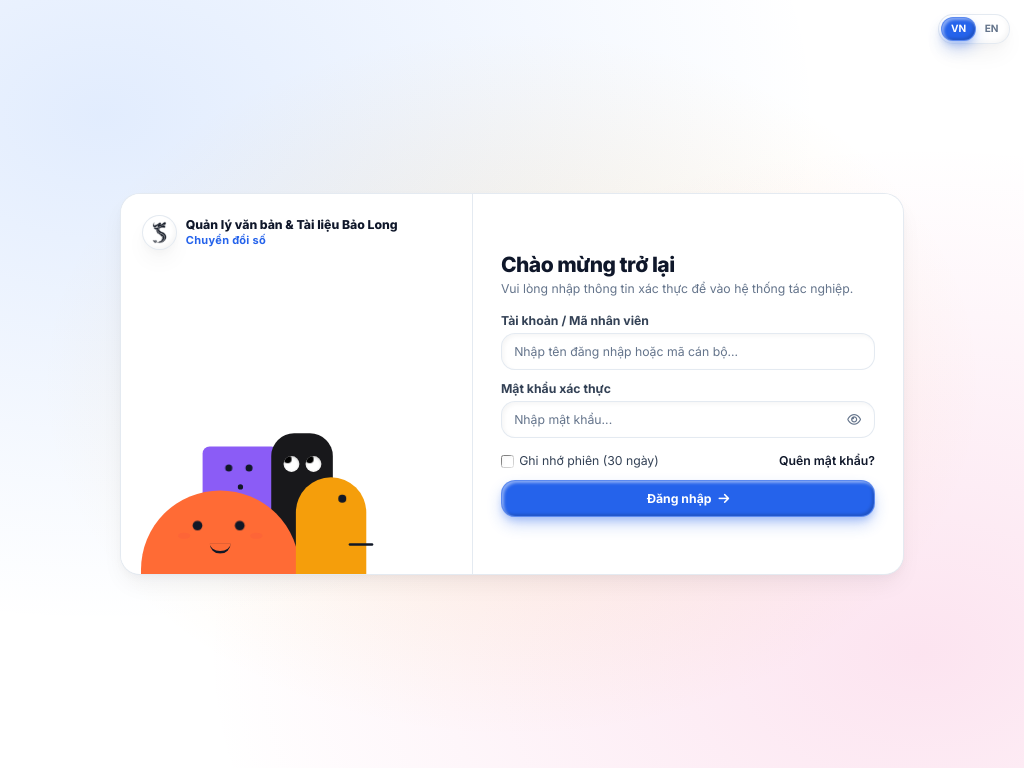
Test case: LoginPage i18n and Language Switching › renders LanguageSwitcher and toggles language to English on demand
This screenshot has width=1024, height=768.
Click the button with aria-label "switch to english" at (992, 29), box [976,18,1007,40]
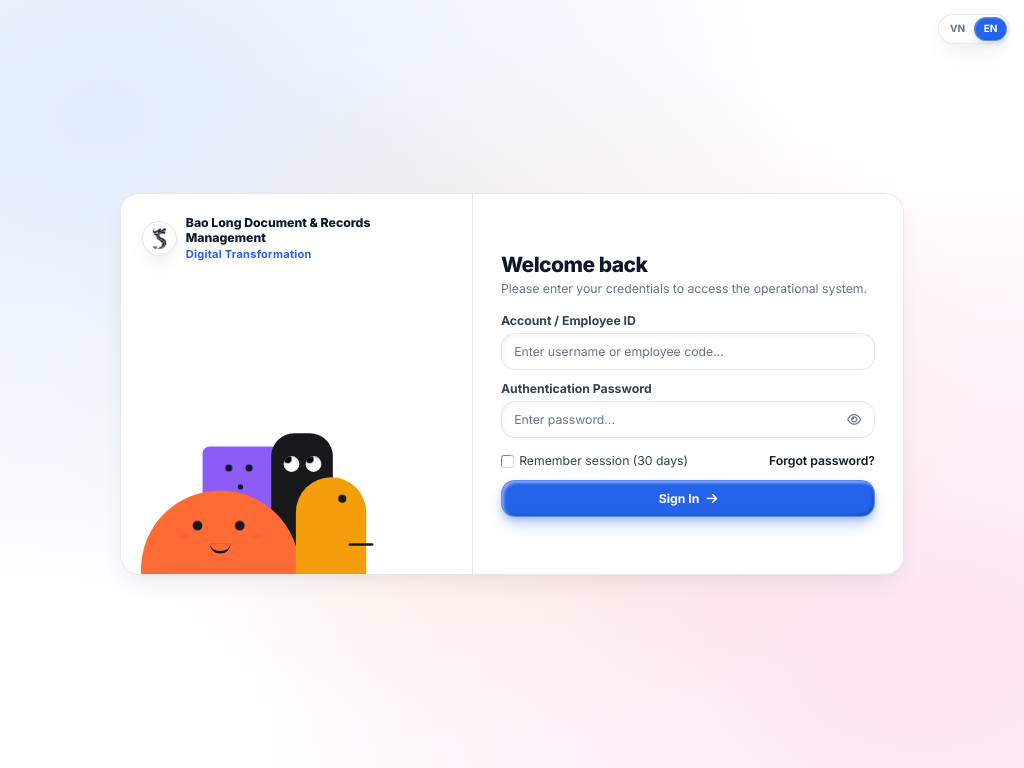
Check: the heading "Welcome back" is shown, box [501,252,647,277]
Check: the text "Account / Employee ID" is shown, box [501,313,636,328]
Check: the text "Authentication Password" is shown, box [501,381,652,396]
